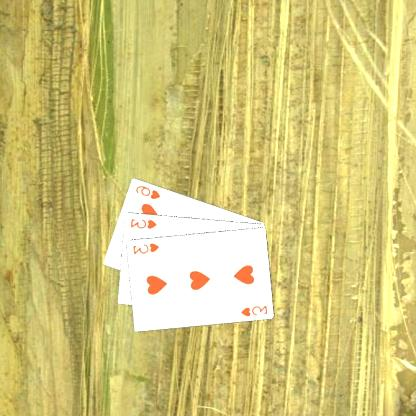3H: (132, 240, 162, 256), (240, 302, 270, 318), (129, 216, 160, 230)
6H: (135, 182, 163, 200)
